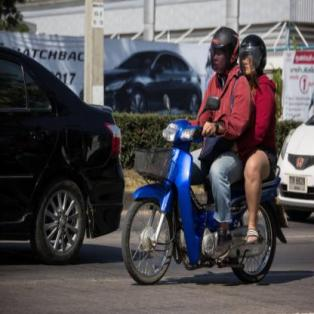Motocicleta: (115, 105, 287, 293)
